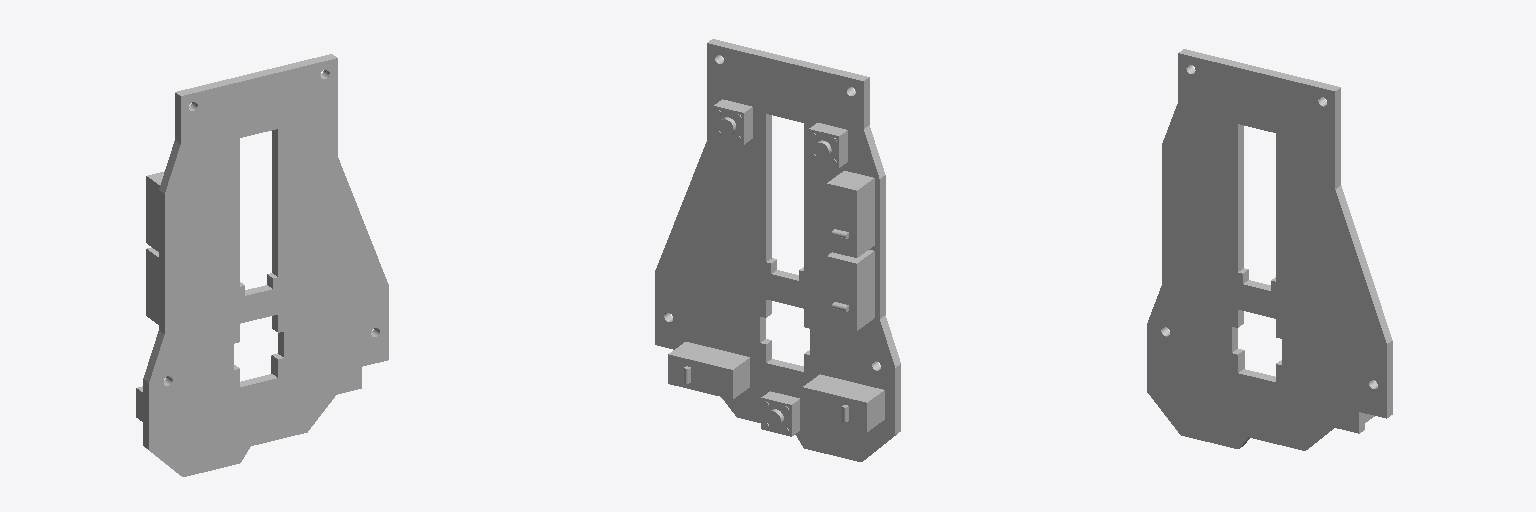
File: mouse_(7).obj
3 views of the same model, side by side, from view 1: azimuth 30°, elevation 25°; view 2: azimuth 150°, elevation 25°; view 3: azimuth 330°, elevation 25° (orthographic).
Visible parts, largest first — view 1: PCB; view 2: PCB; view 3: PCB.
Boxes of the visible parts, x1=… form: PCB: x1=136, y1=54, x2=388, y2=476; PCB: x1=655, y1=39, x2=900, y2=461; PCB: x1=1147, y1=49, x2=1392, y2=450.
Bounding box in the file's own units: 4.74 × 7.2 × 0.9.